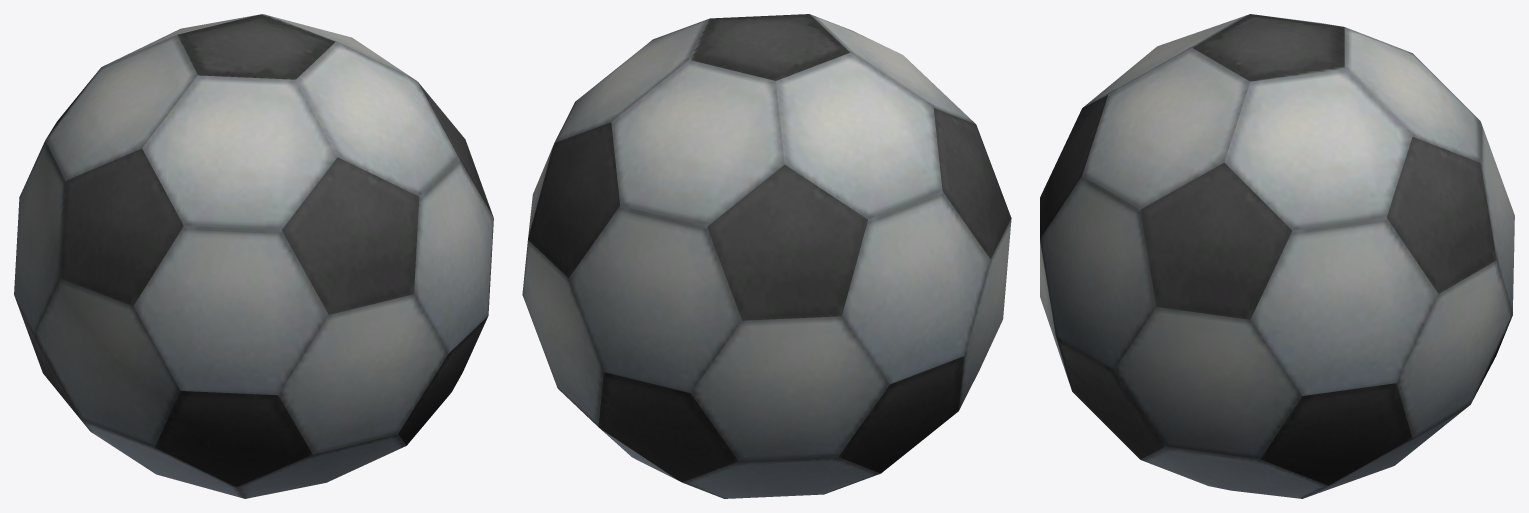
3 renders of one model, left to right at view 1: azimuth 30°, elevation 25°; view 2: azimuth 150°, elevation 25°; view 3: azimuth 270°, elevation 25°, orthographic.
Visible parts, largest first — view 1: i011520; view 2: i011520; view 3: i011520.
Part boxes in pixels (x1=…): i011520: x1=14, y1=14, x2=493, y2=498; i011520: x1=522, y1=14, x2=1011, y2=498; i011520: x1=1040, y1=14, x2=1514, y2=498.
Bounding box in the file's own units: 18.38 × 18.76 × 18.17.
Materials: 1 (1 with a texture image).
